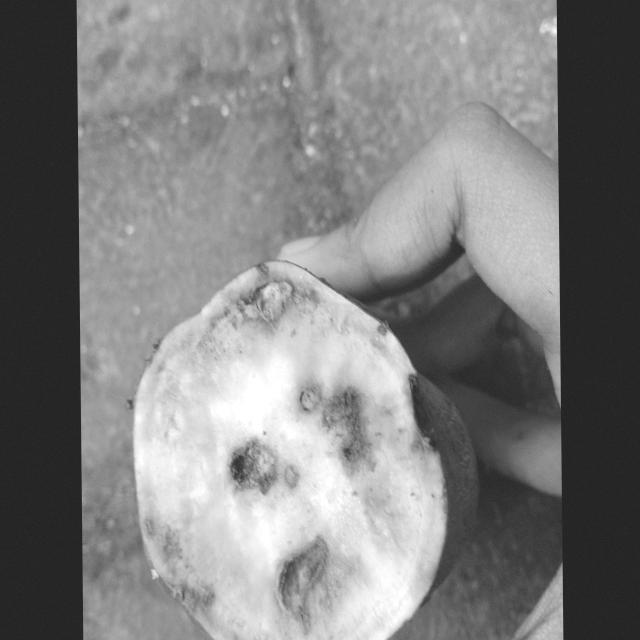Sick Sweet Potato_Tuber Rot: (129, 260, 462, 638)
